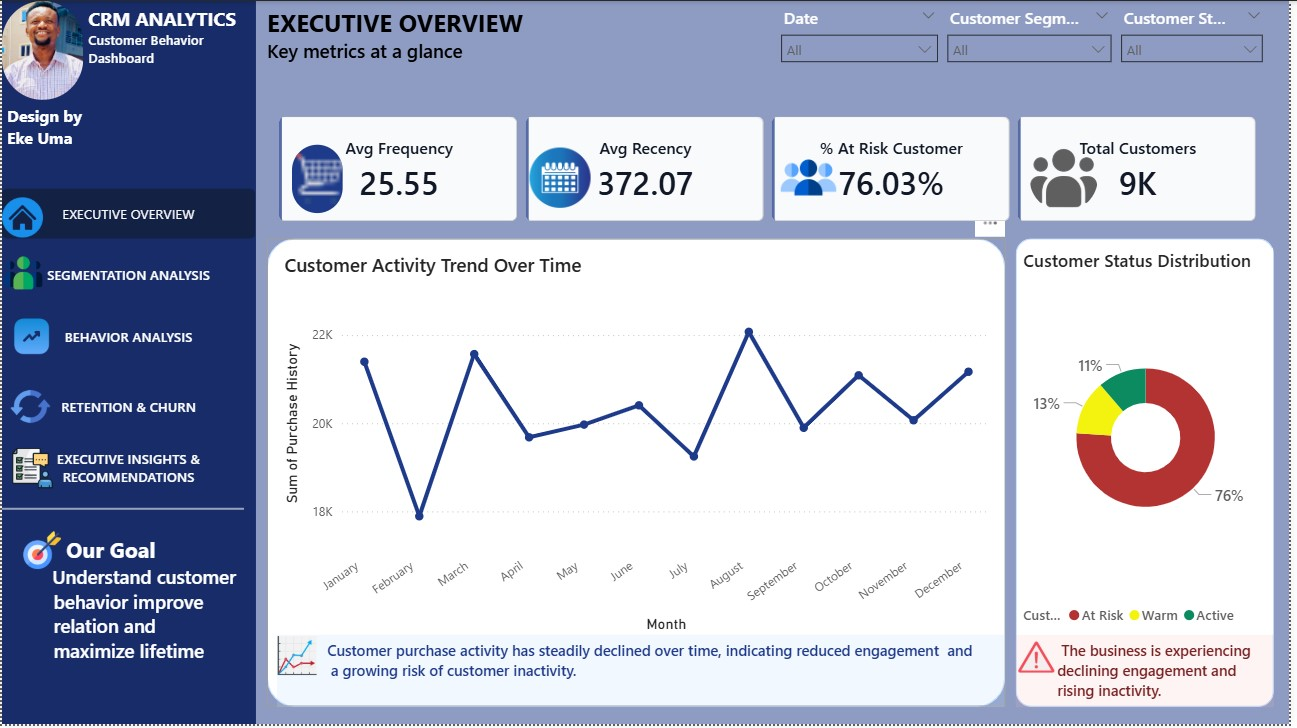

This screenshot's page, from the dashboard's own definition file:
{"tool":"powerbi","page":{"name":"EXECUTIVE OVERVIEW","canvas":[1280,720],"ordinal":0},"visuals":[{"type":"shape","box":[264,236.6,734.4,466],"z":0},{"type":"cardVisual","fields":{"Data":["Customer Intelligence & Segmentation Analytics - Customer Intelligence & Segment.Avg Frequency","Customer Intelligence & Segmentation Analytics - Customer Intelligence & Segment.Avg Recency","Customer Intelligence & Segmentation Analytics - Customer Intelligence & Segment.% At Risk","Customer Intelligence & Segmentation Analytics - Customer Intelligence & Segment.Total Customers"]},"box":[258.3,98.1,1007,138.5],"z":1000},{"type":"shape","box":[0,0,252.5,720.3],"z":2000},{"type":"lineChart","title":"Customer Activity Trend Over Time","fields":{"Category":["Customer Intelligence & Segmentation Analytics - Customer Intelligence & Segment.Last Purchase Date.Variation.Date Hiera"],"Y":["Sum(Customer Intelligence & Segmentation Analytics - Customer Intelligence & Segment.Purchase History)"]},"box":[275.6,249.6,712.7,383.8],"z":3000},{"type":"shape","box":[1008.5,236.6,256.8,466],"z":4000},{"type":"donutChart","title":"Customer Status Distribution","fields":{"Category":["Customer Intelligence & Segmentation Analytics - Customer Intelligence & Segment.Customer Status"],"Y":["CountNonNull(Customer Intelligence & Segmentation Analytics - Customer Intelligence & Segment.Customer ID)"]},"box":[1011.4,246.7,253.9,383.8],"z":5000},{"type":"textbox","box":[258.3,0,327.5,69.3],"z":6000},{"type":"textbox","box":[1008.5,630.5,256.8,72.1],"z":7000},{"type":"textbox","box":[274.1,630.5,724.3,72.1],"z":8000},{"type":"slicer","fields":{"Values":["Customer Intelligence & Segmentation Analytics - Customer Intelligence & Segment.Last Purchase Date"]},"box":[764.7,0,176,63.5],"z":9000},{"type":"slicer","fields":{"Values":["Customer Intelligence & Segmentation Analytics - Customer Intelligence & Segment.Customer Segment"]},"box":[930.6,0,183.2,63.5],"z":10000},{"type":"slicer","fields":{"Values":["Customer Intelligence & Segmentation Analytics - Customer Intelligence & Segment.Customer Status"]},"box":[1103.7,0,161.6,69.3],"z":11000},{"type":"textbox","box":[0,98.1,103.9,69.3],"z":12000},{"type":"image","box":[0,0,80.8,98.1],"z":13000},{"type":"image","box":[1022.9,142.8,67.8,66.4],"z":14000},{"type":"image","box":[288.6,142.8,50.5,67.8],"z":15000},{"type":"image","box":[525.2,141.4,60.6,67.8],"z":16000},{"type":"image","box":[774.8,148.6,54.8,54.8],"z":17000},{"type":"textbox","box":[80.8,0,177.5,80.8],"z":18000},{"type":"textbox","box":[0,526.6,240.9,176],"z":19000},{"type":"image","box":[274.1,630.5,40.4,41.8],"z":20000},{"type":"image","box":[1011.4,624.7,36.1,56.3],"z":21000},{"type":"image","box":[21.6,512.2,37.5,67.8],"z":22000},{"type":"pageNavigator","box":[0,186.1,252.5,50.5],"z":23000},{"type":"pageNavigator","box":[0,438.6,252.5,50.5],"z":24000},{"type":"pageNavigator","box":[0,378,252.5,50.5],"z":25000},{"type":"pageNavigator","box":[0,309.1,252.8,50.6],"z":26000},{"type":"pageNavigator","box":[0,247,252.8,50.6],"z":27000},{"type":"image","box":[0,186.3,40.4,57.8],"z":28000},{"type":"image","box":[2.9,244.1,37.6,53.4],"z":29000},{"type":"image","box":[8.7,432.8,43.3,63.5],"z":30000},{"type":"image","box":[8.7,382.3,39,43.3],"z":31000},{"type":"image","box":[8.7,308.8,41.8,50.5],"z":32000},{"type":"shape","box":[0,499.2,240.9,13],"z":33000}]}

Visuals, with their boxes in screenshot pixels (x1, y1, x2, y2), scaled from the page's 1280x720 canvas onto the 1297x728 screenshot:
shape: x1=268, y1=239, x2=1012, y2=710
cardVisual - Customer Intelligence & Segmentation Analytics - Customer Intelligence & Segment.Avg Frequency x Customer Intelligence & Segmentation Analytics - Customer Intelligence & Segment.Avg Recency: x1=262, y1=99, x2=1282, y2=239
shape: x1=0, y1=0, x2=256, y2=727
"Customer Activity Trend Over Time" lineChart: x1=279, y1=252, x2=1001, y2=640
shape: x1=1022, y1=239, x2=1282, y2=710
"Customer Status Distribution" donutChart: x1=1025, y1=249, x2=1282, y2=638
textbox: x1=262, y1=0, x2=594, y2=70
textbox: x1=1022, y1=638, x2=1282, y2=710
textbox: x1=278, y1=638, x2=1012, y2=710
slicer - Customer Intelligence & Segmentation Analytics - Customer Intelligence & Segment.Last Purchase Date: x1=775, y1=0, x2=953, y2=64
slicer - Customer Intelligence & Segmentation Analytics - Customer Intelligence & Segment.Customer Segment: x1=943, y1=0, x2=1129, y2=64
slicer - Customer Intelligence & Segmentation Analytics - Customer Intelligence & Segment.Customer Status: x1=1118, y1=0, x2=1282, y2=70
textbox: x1=0, y1=99, x2=105, y2=169
image: x1=0, y1=0, x2=82, y2=99
image: x1=1036, y1=144, x2=1105, y2=212
image: x1=292, y1=144, x2=344, y2=213
image: x1=532, y1=143, x2=594, y2=212
image: x1=785, y1=150, x2=841, y2=206
textbox: x1=82, y1=0, x2=262, y2=82
textbox: x1=0, y1=532, x2=244, y2=710
image: x1=278, y1=638, x2=319, y2=680
image: x1=1025, y1=632, x2=1061, y2=689
image: x1=22, y1=518, x2=60, y2=586
pageNavigator: x1=0, y1=188, x2=256, y2=239
pageNavigator: x1=0, y1=443, x2=256, y2=495
pageNavigator: x1=0, y1=382, x2=256, y2=433
pageNavigator: x1=0, y1=313, x2=256, y2=364
pageNavigator: x1=0, y1=250, x2=256, y2=301
image: x1=0, y1=188, x2=41, y2=247
image: x1=3, y1=247, x2=41, y2=301
image: x1=9, y1=438, x2=53, y2=502
image: x1=9, y1=387, x2=48, y2=430
image: x1=9, y1=312, x2=51, y2=363
shape: x1=0, y1=505, x2=244, y2=518
